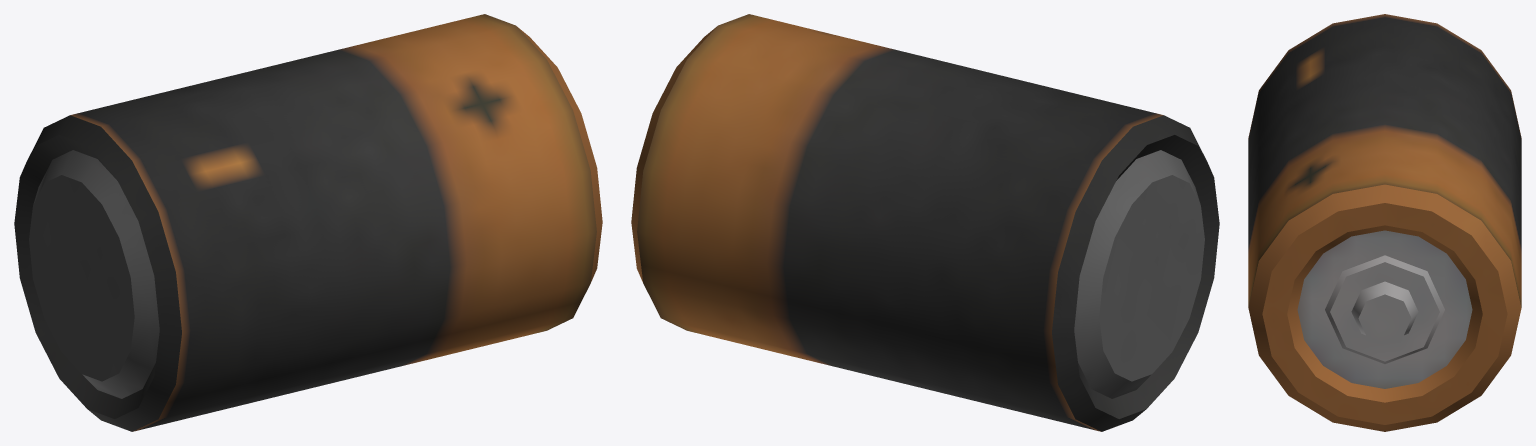
Rendered from battery_mp_2.dae.
The picture shows the model from 3 angles, left to right: view 1: azimuth 30°, elevation 25°; view 2: azimuth 150°, elevation 25°; view 3: azimuth 270°, elevation 25°; orthographic projection. The views are drawn at different scales.
Visible parts, largest first — view 1: battery_mp_2; view 2: battery_mp_2; view 3: battery_mp_2.
Part boxes in pixels (x1,y1,x2,y2): battery_mp_2: [14, 14, 602, 431]; battery_mp_2: [631, 14, 1219, 431]; battery_mp_2: [1248, 14, 1521, 431].
Bounding box in the file's own units: 0.0883 × 0.054 × 0.054.
Materials: 1 (1 with a texture image).
